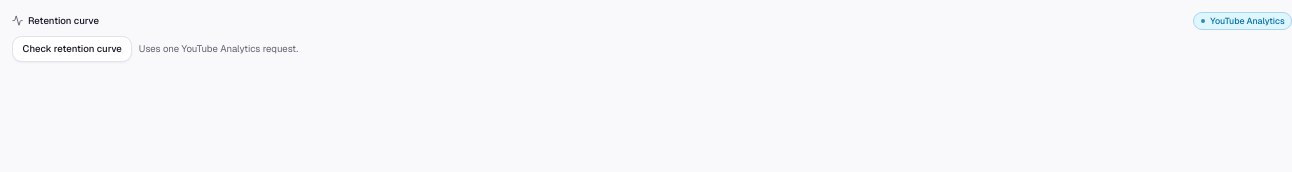
RetentionProbe when the linked video changes › clears link 5's result when the probe is shown for link 6
Later steps or results of the test are not shown.
What coordinates should you click on to do the following:
click the button "Check retention curve"
I would click on:
 (72, 49)
Its box is [12, 36, 132, 62].
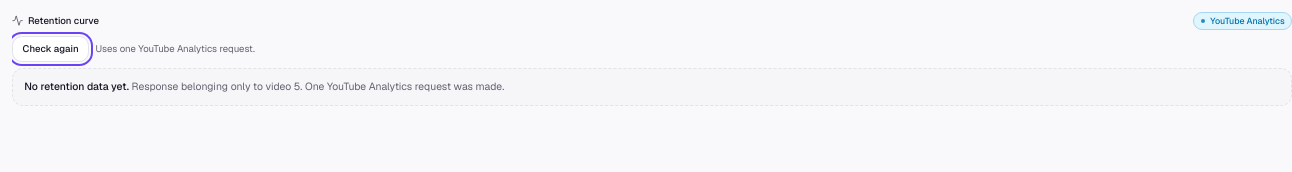
expect the text "Response belonging only to video 5" is shown: met, box [132, 80, 302, 93]
